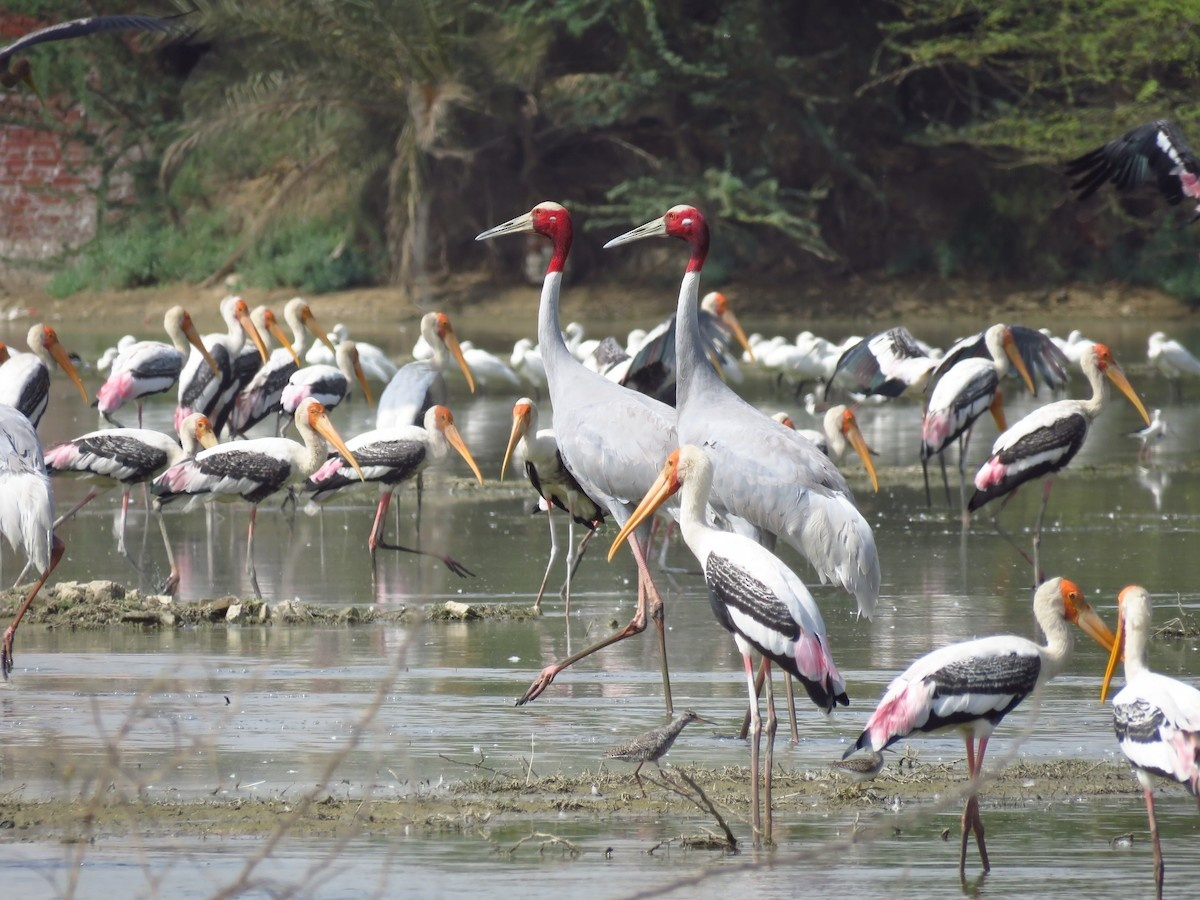crane: (467, 192, 690, 712), (606, 447, 850, 850), (859, 581, 1121, 890), (602, 196, 844, 449), (163, 392, 372, 607), (305, 405, 488, 601), (1099, 587, 1200, 897), (495, 389, 608, 609), (377, 308, 481, 424), (1, 310, 98, 428)
